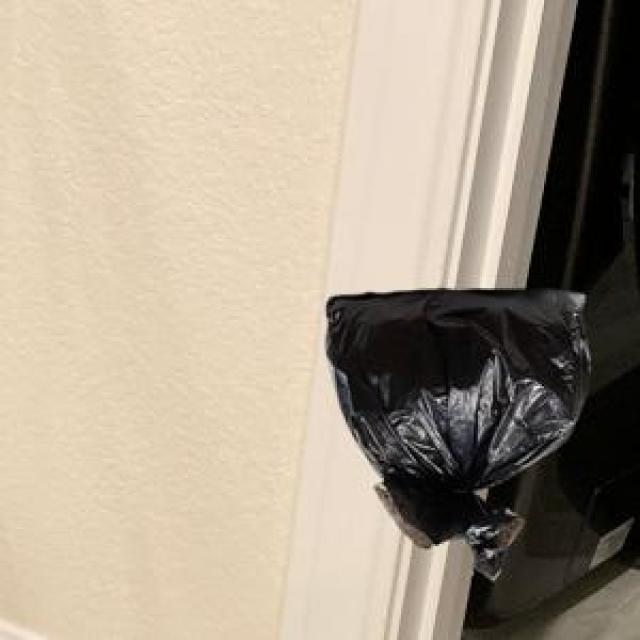Trashbag: (321, 282, 598, 581)
